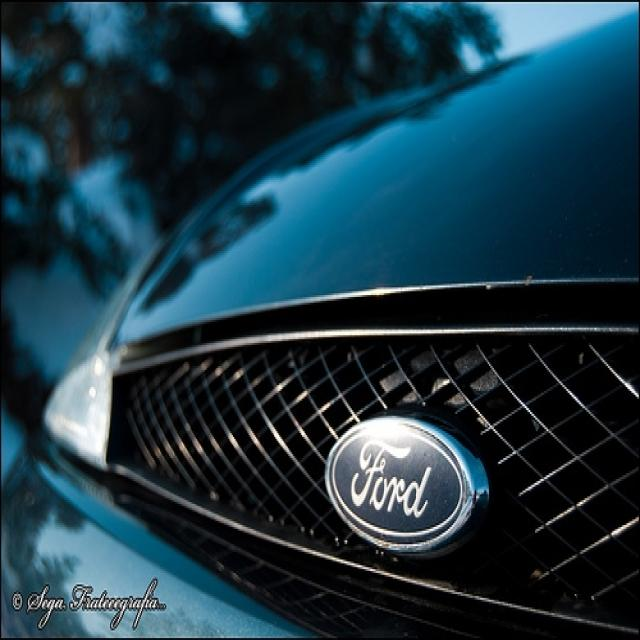ford: (323, 411, 479, 553)
